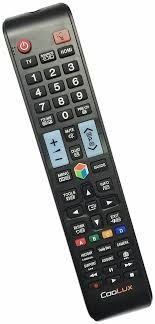remote control: (0, 10, 151, 322)
